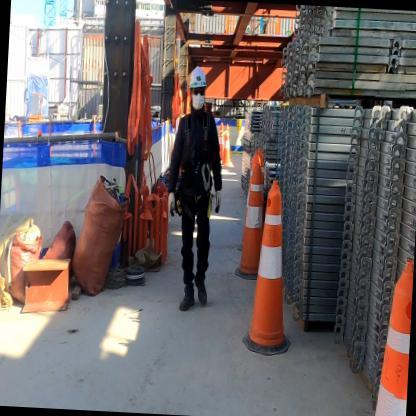Helmet: (186, 64, 210, 94)
safety-shoe: (174, 280, 196, 318), (192, 273, 210, 316)
